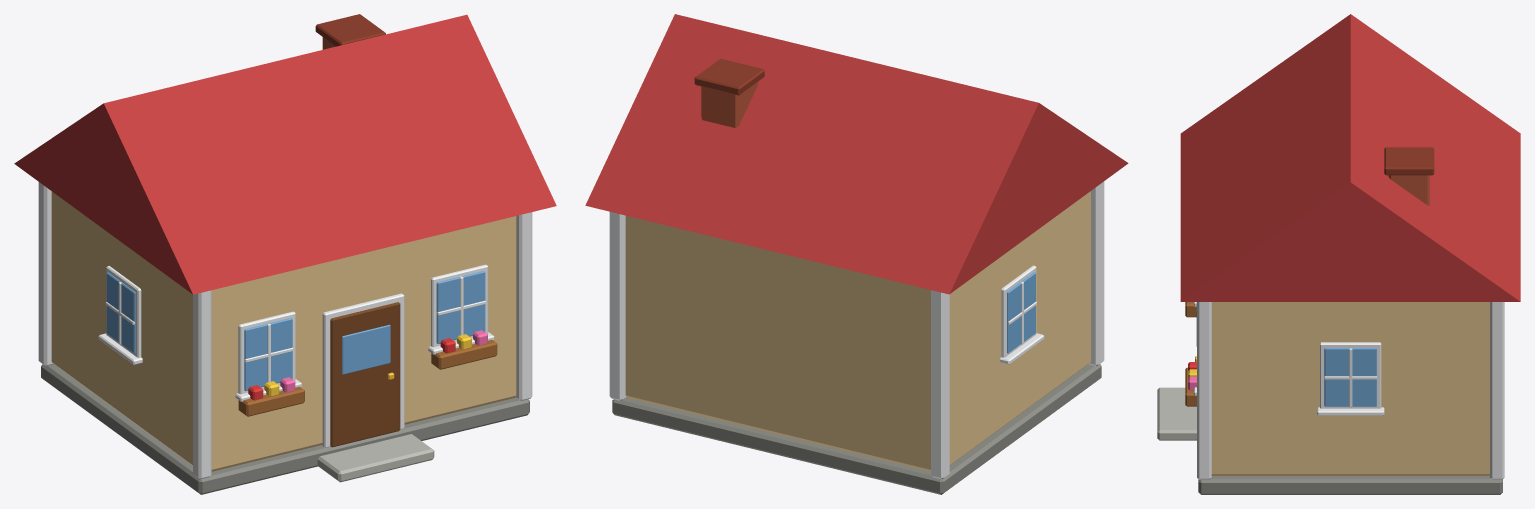
Rendered from House.fbx.
The picture shows the model from 3 angles, left to right: view 1: azimuth 30°, elevation 25°; view 2: azimuth 150°, elevation 25°; view 3: azimuth 270°, elevation 25°; orthographic projection. The views are drawn at different scales.
Parts seen in each view (by area): view 1: House; view 2: House; view 3: House.
Part boxes in pixels (x1,y1,x2,y2): House: (14, 14, 556, 494); House: (585, 14, 1128, 494); House: (1157, 14, 1520, 494).
Size of the model in its own units: 13.6 by 12.1 by 12.4.
1 material, 1 textured.
